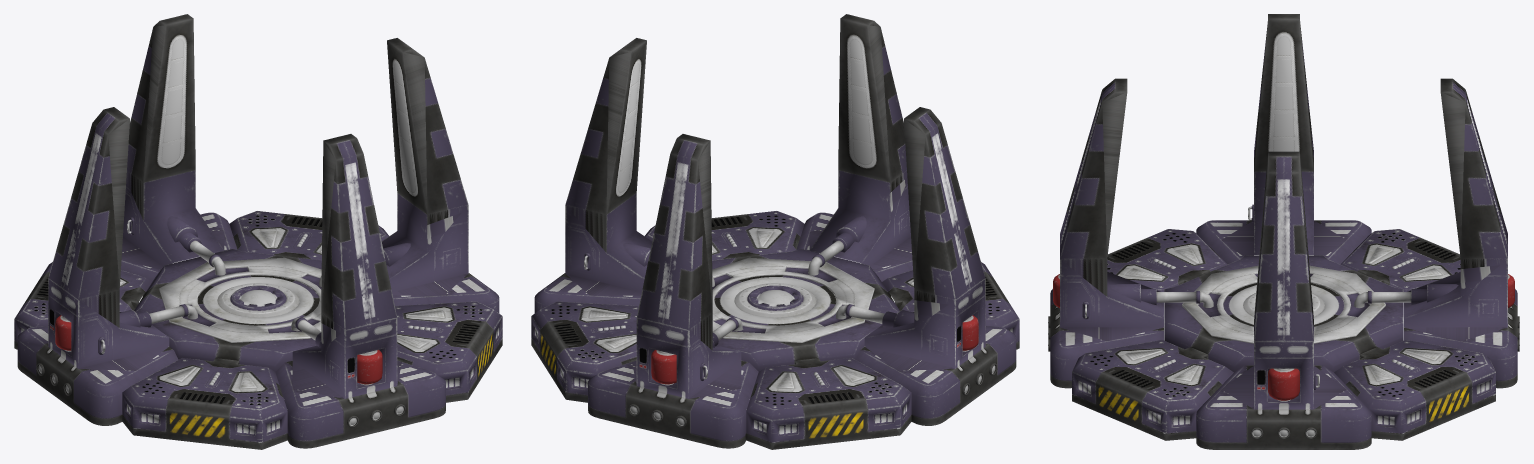
The model's file is Teleport.obj.
3 renders of one model, left to right at view 1: azimuth 30°, elevation 25°; view 2: azimuth 150°, elevation 25°; view 3: azimuth 270°, elevation 25°, orthographic.
Visible parts, largest first — view 1: Teleport; view 2: Teleport; view 3: Teleport.
Part boxes in pixels (x1=…): Teleport: x1=14, y1=14, x2=502, y2=449; Teleport: x1=531, y1=14, x2=1019, y2=449; Teleport: x1=1048, y1=14, x2=1519, y2=449.
Size of the model in its own units: 4.03 by 2.5 by 4.03.
Materials: 1 (1 with a texture image).
